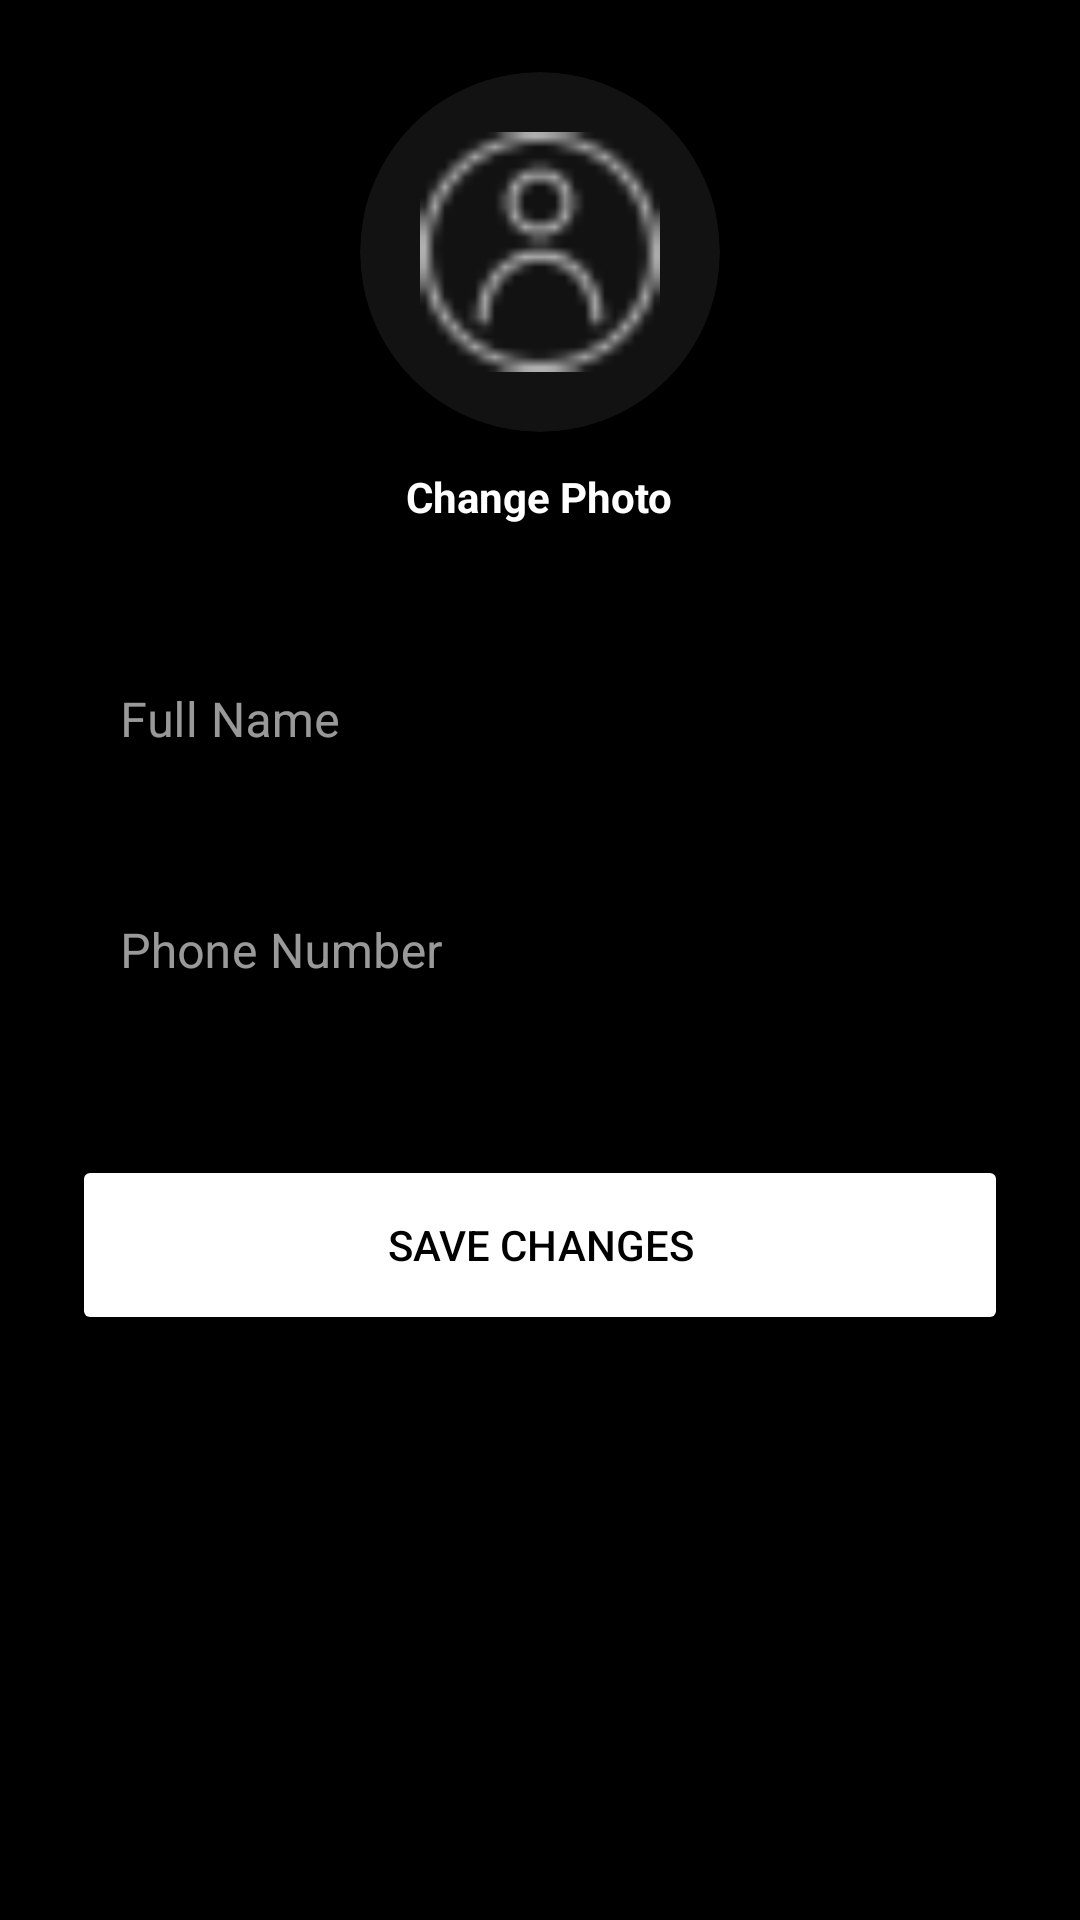

Locate icon controls on the screen. Image size 1080px×1920px, boxes as (x1, y1, x2, y2).
person: (360, 72, 720, 432)
